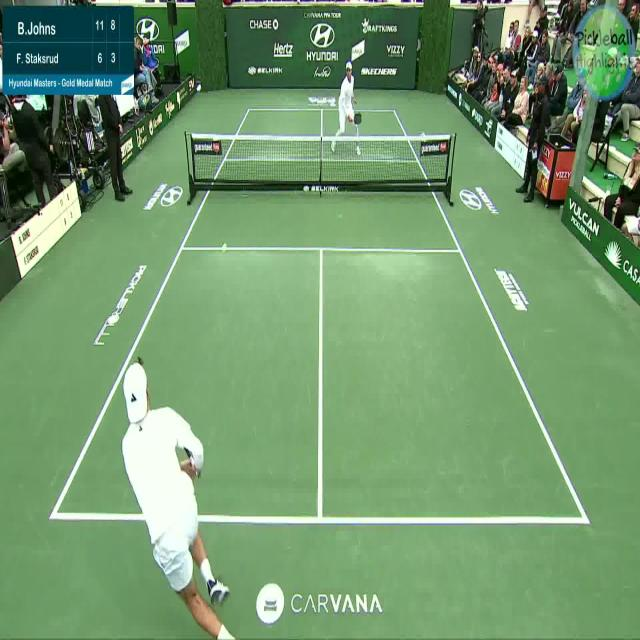ball: (220, 238, 228, 252)
